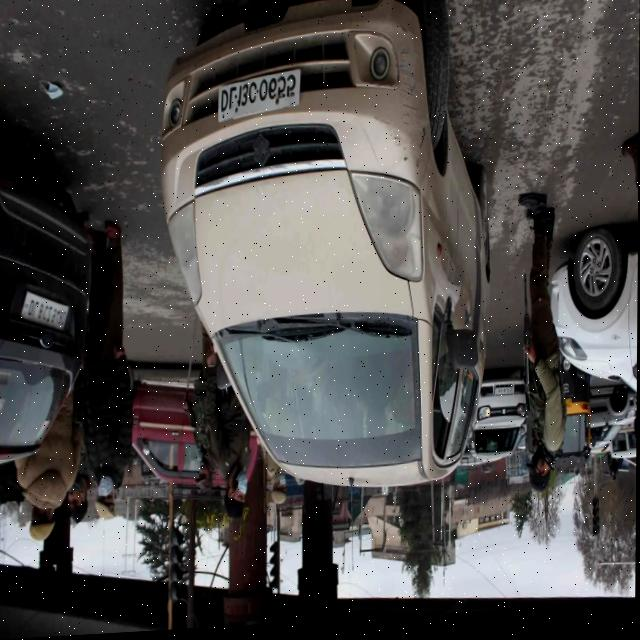plate: (214, 64, 307, 130), (18, 284, 73, 339), (494, 391, 516, 406), (564, 405, 574, 417)
